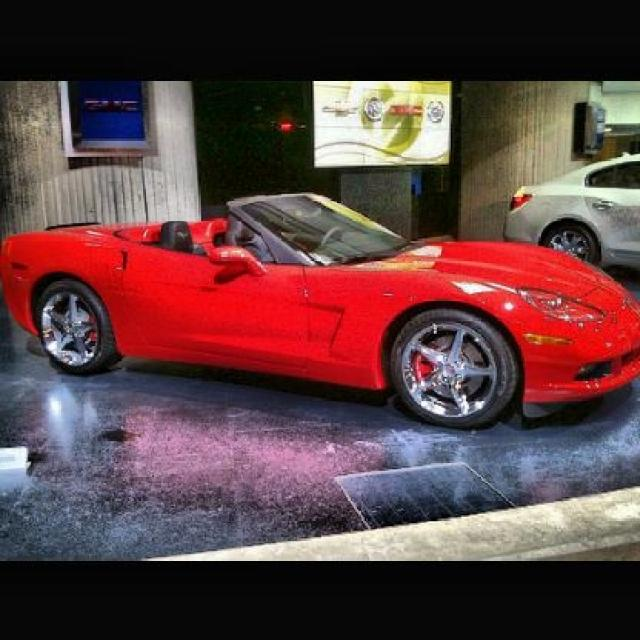red: (4, 191, 640, 427)
